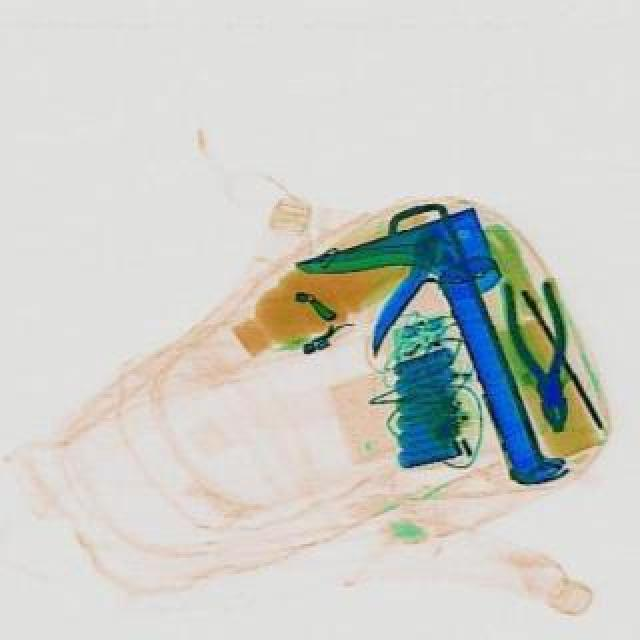knife: (292, 206, 568, 526)
wrench: (498, 272, 584, 434)
